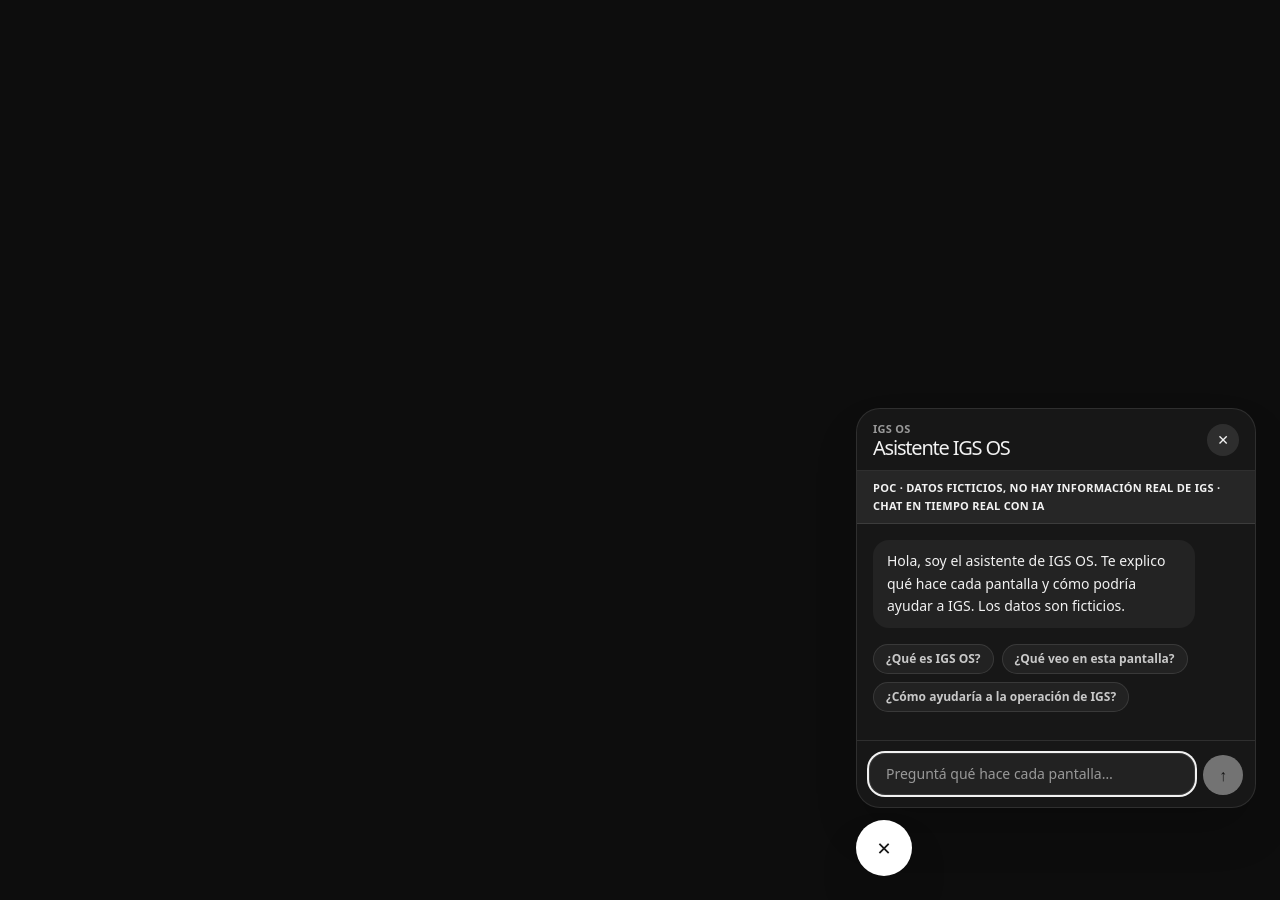
Test: GuideWidget › streams the answer and renders only same-site route pills
Click the button "¿Qué es IGS OS?". click: {"x": 933, "y": 659}
box: [873,644,994,674]
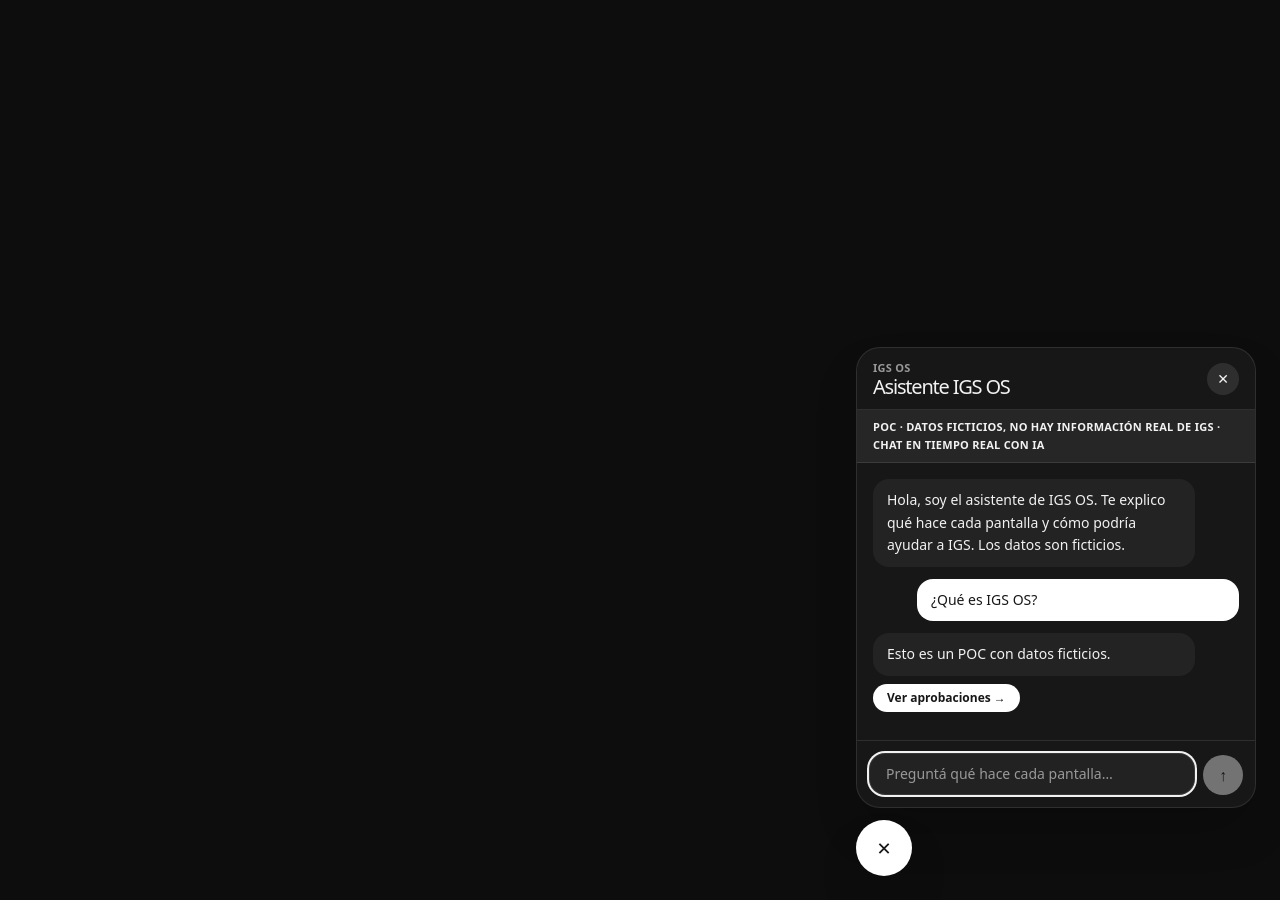
Result: the text "Esto es un POC con datos ficticios." is shown at [873,633,1195,676]
